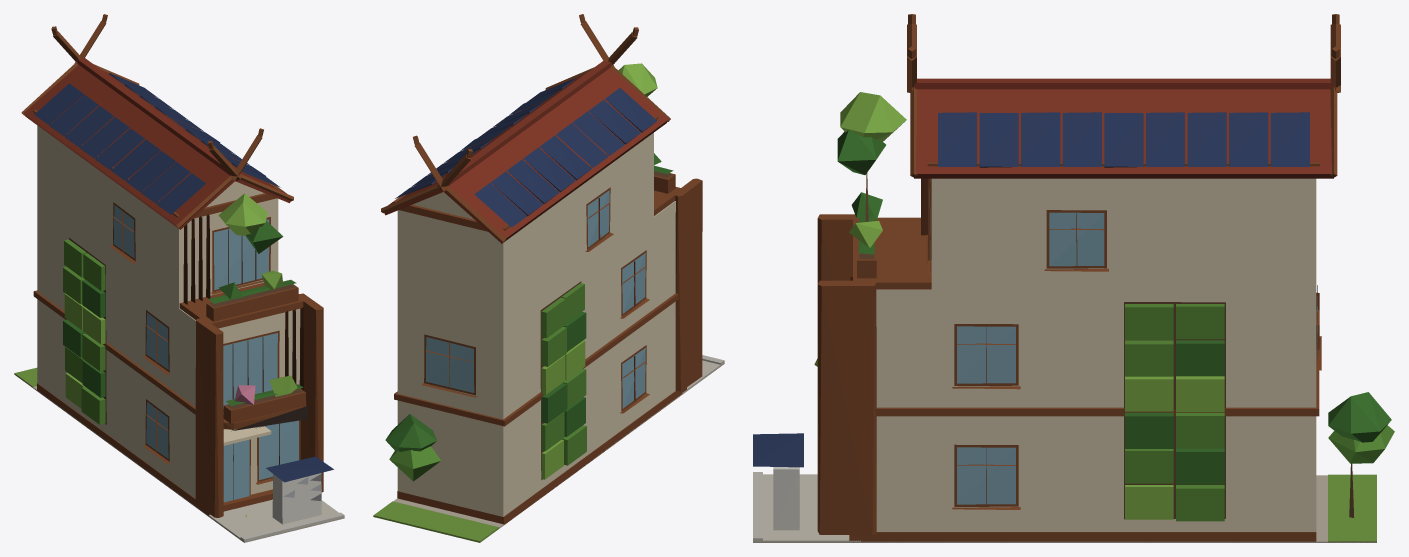
The model's file is bay1_one.glb.
The picture shows the model from 3 angles, left to right: view 1: azimuth 30°, elevation 25°; view 2: azimuth 150°, elevation 25°; view 3: azimuth 270°, elevation 25°; orthographic projection. The views are drawn at different scales.
Visible parts, largest first — view 1: body; view 2: body; view 3: body.
Part boxes in pixels (box(x1,y1,x2,y2)): body: box(14, 14, 344, 542); body: box(373, 14, 724, 542); body: box(753, 14, 1394, 542).
Size of the model in its own units: 4.7 by 13.47 by 16.36.
